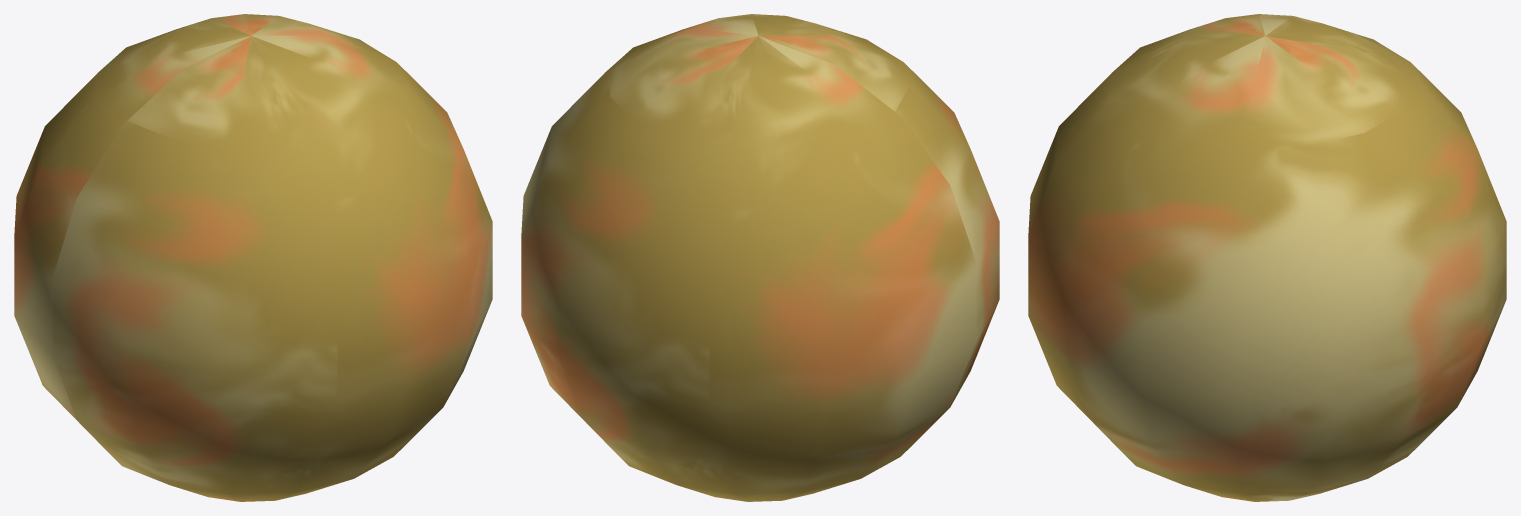
The model's file is tinyyellow.fbx.
3 views of the same model, side by side, from view 1: azimuth 30°, elevation 25°; view 2: azimuth 150°, elevation 25°; view 3: azimuth 270°, elevation 25° (orthographic).
Visible parts, largest first — view 1: Sphere.002; view 2: Sphere.002; view 3: Sphere.002.
Part boxes in pixels (x1,y1,x2,y2): Sphere.002: [14, 14, 492, 501]; Sphere.002: [521, 14, 999, 501]; Sphere.002: [1028, 14, 1506, 501].
Bounding box in the file's own units: 0.7318 × 0.7474 × 0.7296.
